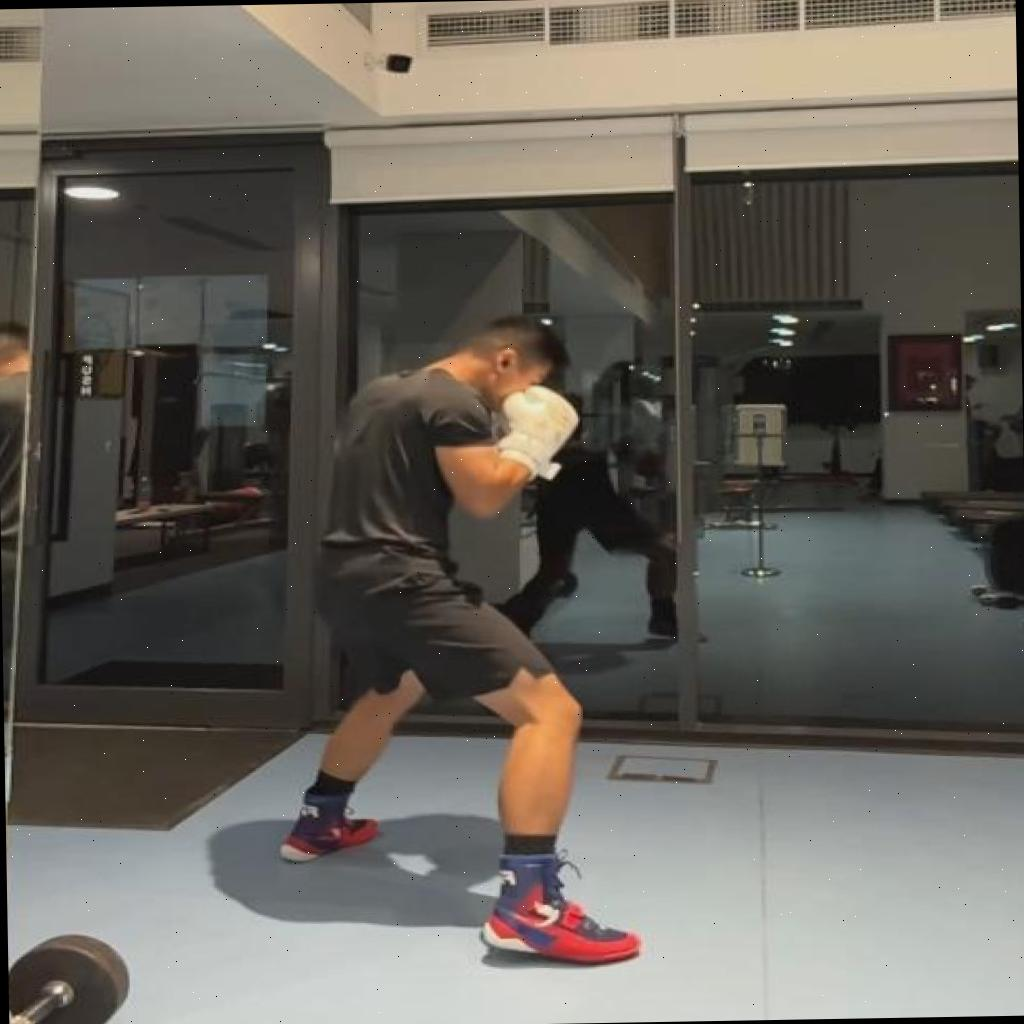no punch: (258, 310, 641, 977)
